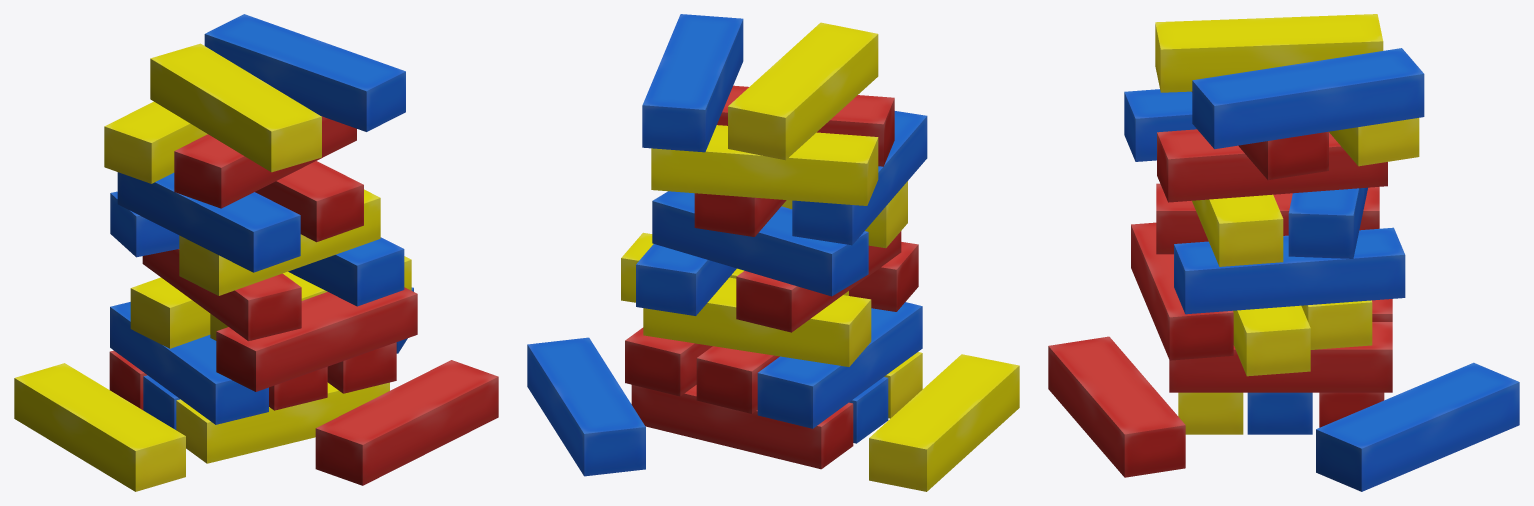
Rendered from BlockTower_HD.fbx.
3 renders of one model, left to right at view 1: azimuth 30°, elevation 25°; view 2: azimuth 150°, elevation 25°; view 3: azimuth 270°, elevation 25°, orthographic. The views are drawn at different scales.
Visible parts, largest first — view 1: BlockTower; view 2: BlockTower; view 3: BlockTower.
Part boxes in pixels (x1,y1,x2,y2): BlockTower: [14, 14, 498, 491]; BlockTower: [527, 14, 1019, 491]; BlockTower: [1048, 14, 1519, 491].
Size of the model in its own units: 0.4344 by 0.3463 by 0.4278.
